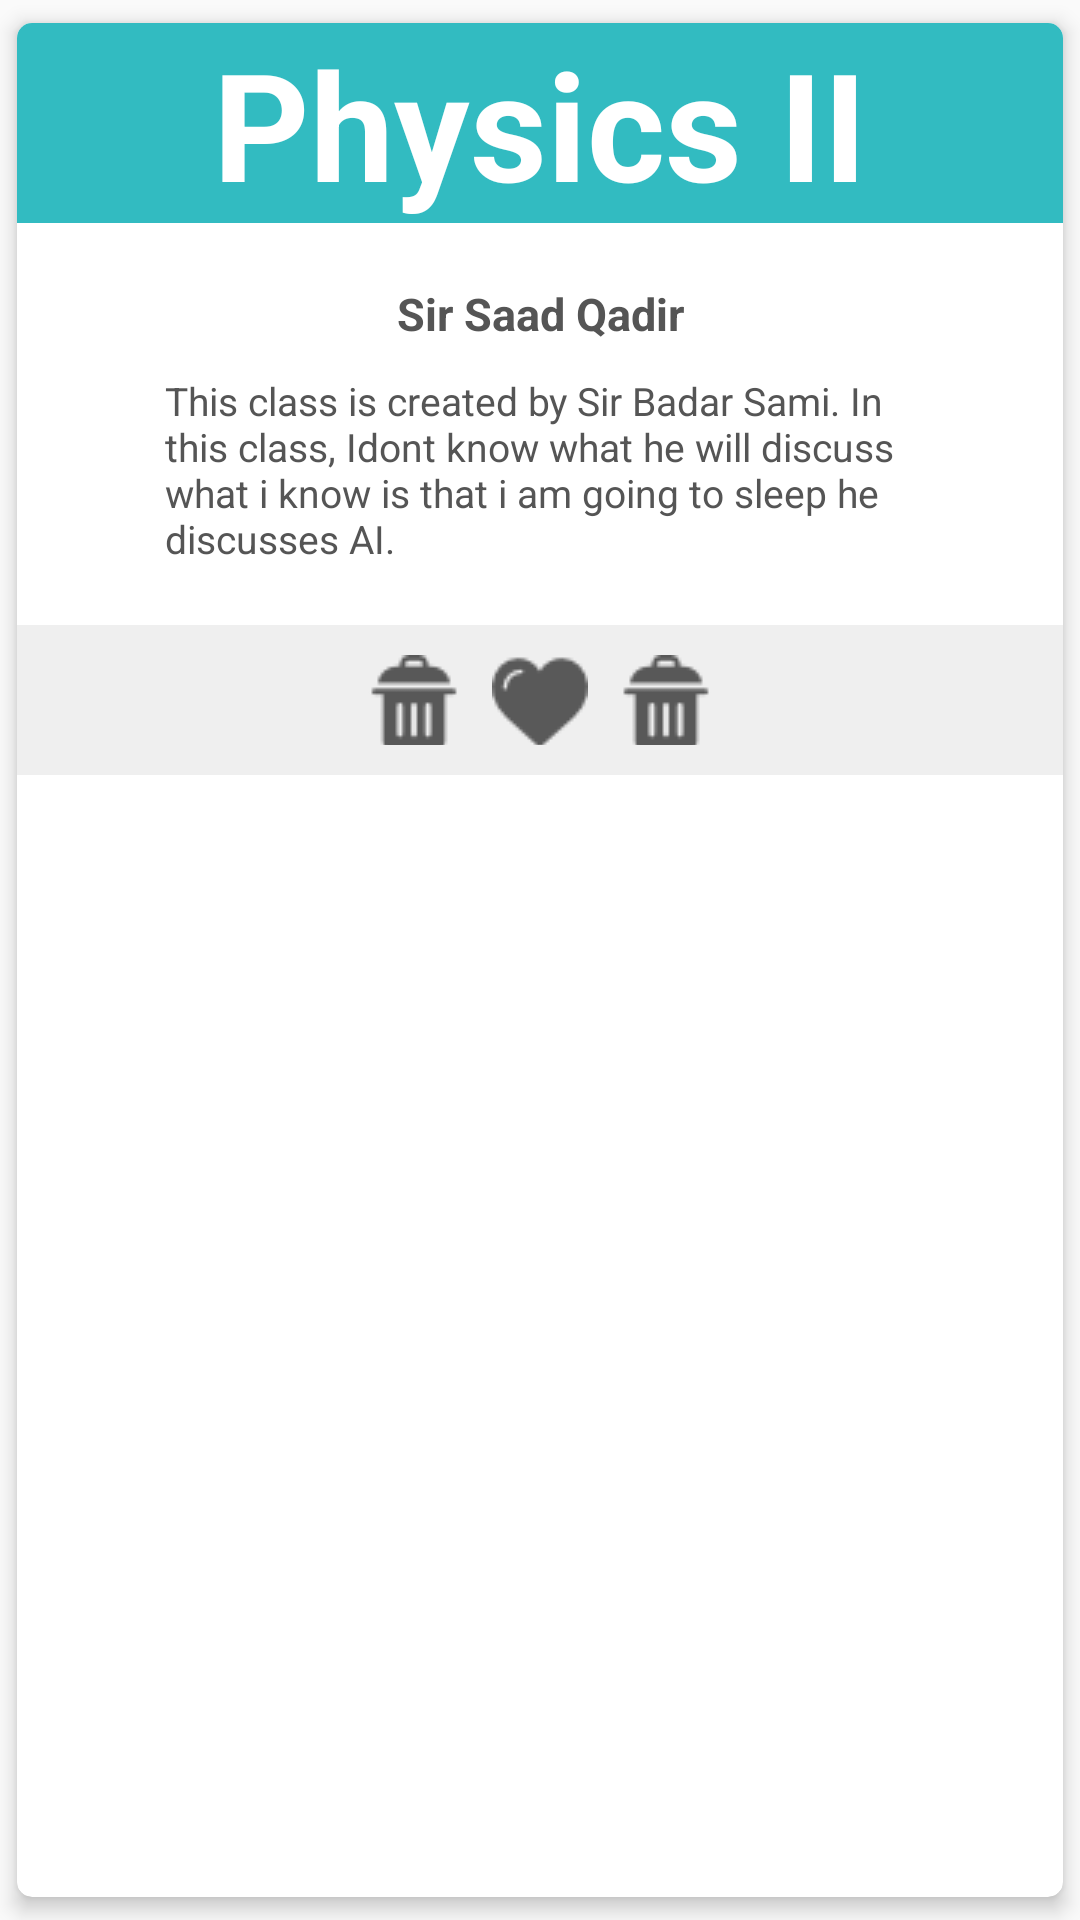

Icons on this 1080×1920 Android screen, each with the point to tap as [x,y]:
like: [540,701]
trash: [414,700], [666,700]
